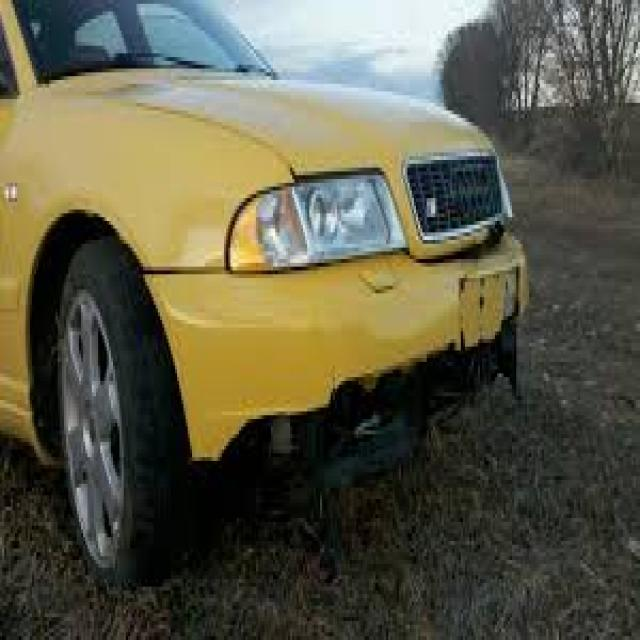minor: (183, 291, 560, 478)
